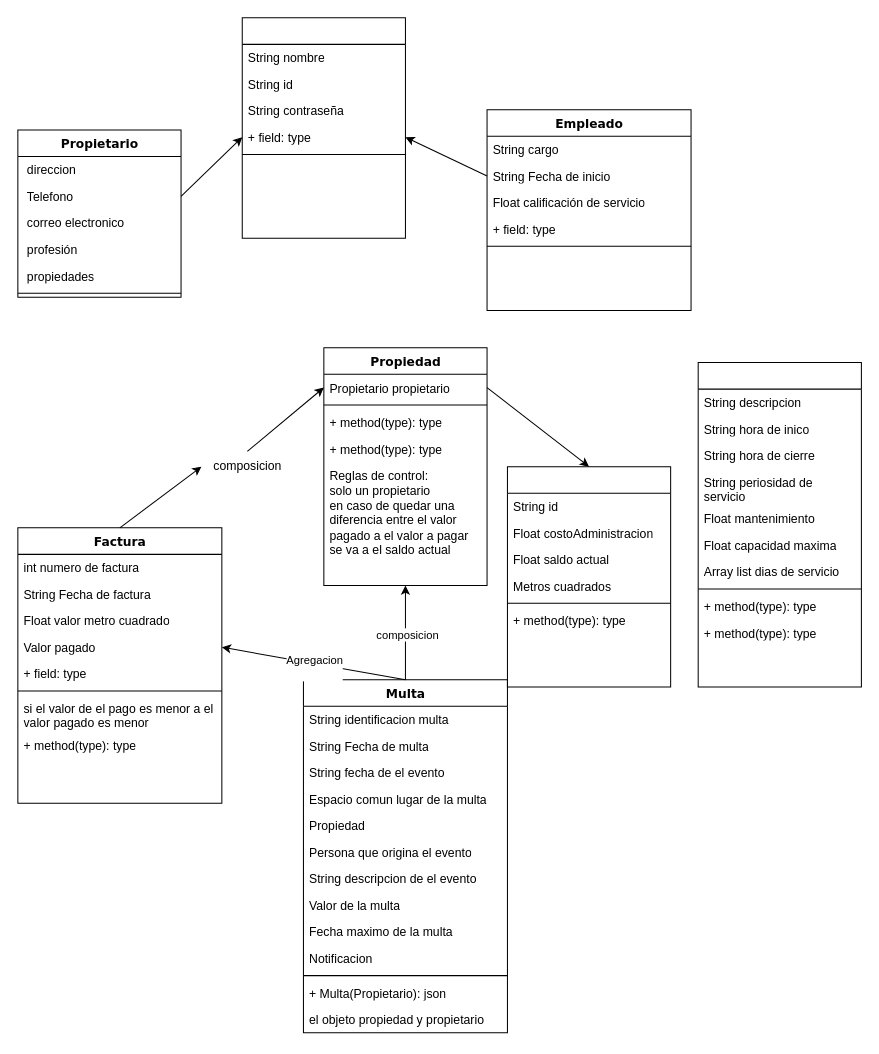
Image size: 879x1054. Some labels were removed from this diagram. Here are the shapes that lost their labels. From the top down, the box of each, then its label:
(241, 17, 405, 238): Persona
(697, 362, 861, 687): Espacios comunes
(506, 466, 671, 687): Casa
